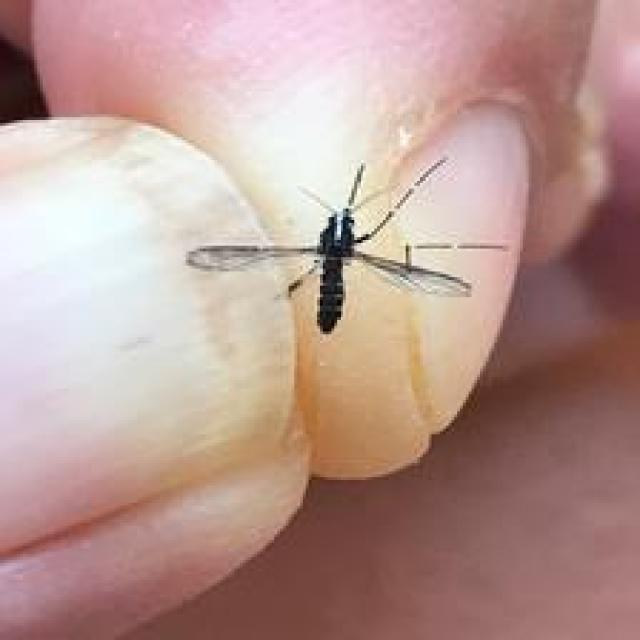Aedes albopictus: (184, 153, 507, 336)
